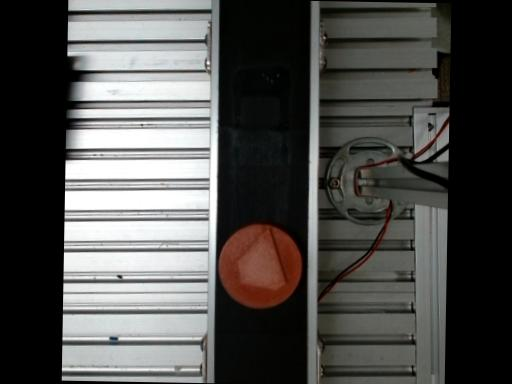Brown_Waper: (218, 224, 301, 308)
Not_Square: (236, 226, 287, 289)
